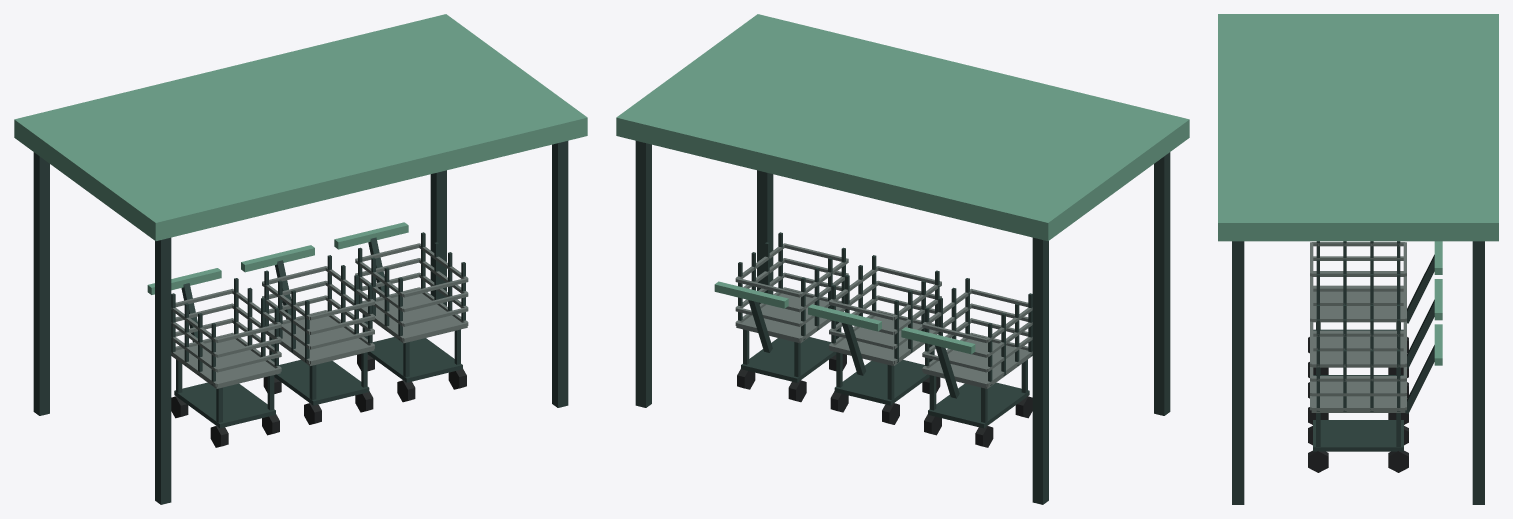
The model's file is TrolleyCorral.obj.
3 views of the same model, side by side, from view 1: azimuth 30°, elevation 25°; view 2: azimuth 150°, elevation 25°; view 3: azimuth 270°, elevation 25° (orthographic).
Parts seen in each view (by area): view 1: TrolleyCorral; view 2: TrolleyCorral; view 3: TrolleyCorral.
Part boxes in pixels (x1,y1,x2,y2): TrolleyCorral: [14, 14, 587, 504]; TrolleyCorral: [616, 14, 1189, 504]; TrolleyCorral: [1218, 14, 1498, 504].
Size of the model in its own units: 3.7 by 2.38 by 2.1.
1 material, 1 textured.
